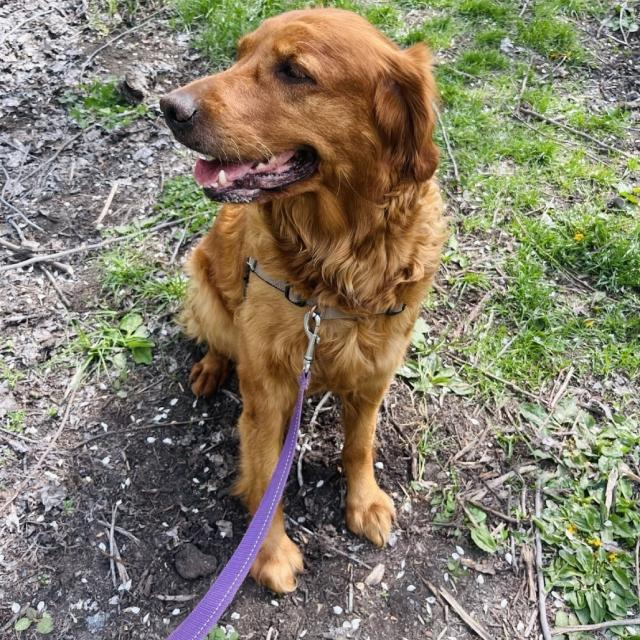golden_retriever_dog: (146, 11, 448, 226)
